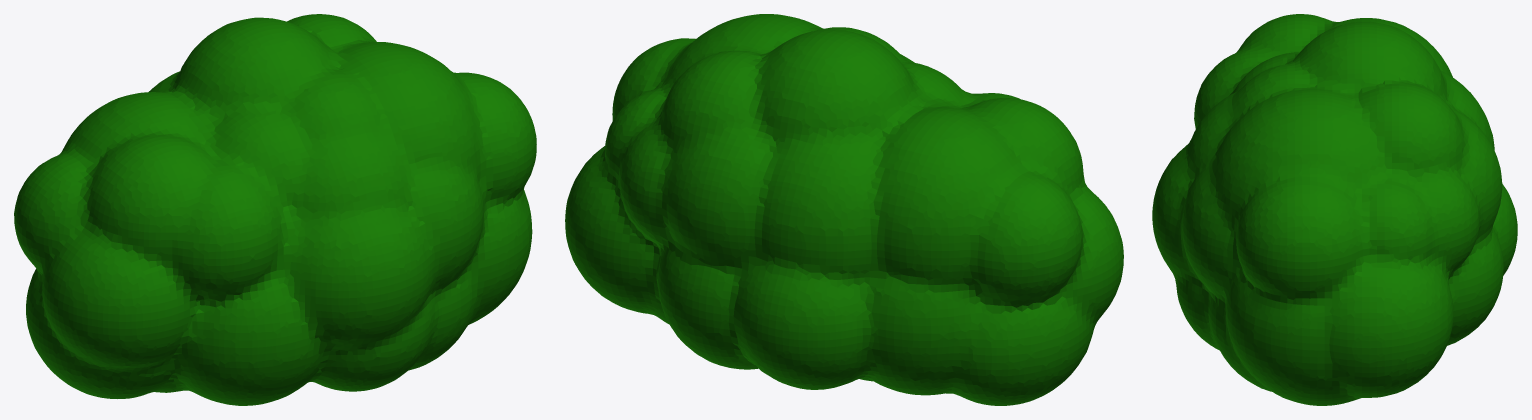
Rendered from Bush.glb.
3 views of the same model, side by side, from view 1: azimuth 30°, elevation 25°; view 2: azimuth 150°, elevation 25°; view 3: azimuth 270°, elevation 25° (orthographic). The views are drawn at different scales.
Visible parts, largest first — view 1: Bush; view 2: Bush; view 3: Bush.
Boxes of the visible parts, x1,y1,x2,y2 form: Bush: [14, 14, 536, 405]; Bush: [565, 14, 1123, 405]; Bush: [1152, 14, 1517, 405].
Bounding box in the file's own units: 3.55 × 2.33 × 2.45.
